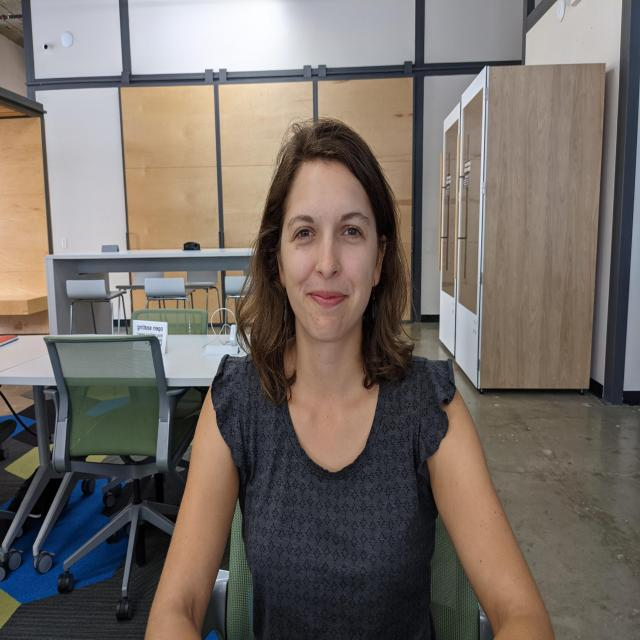face: (272, 156, 384, 347)
